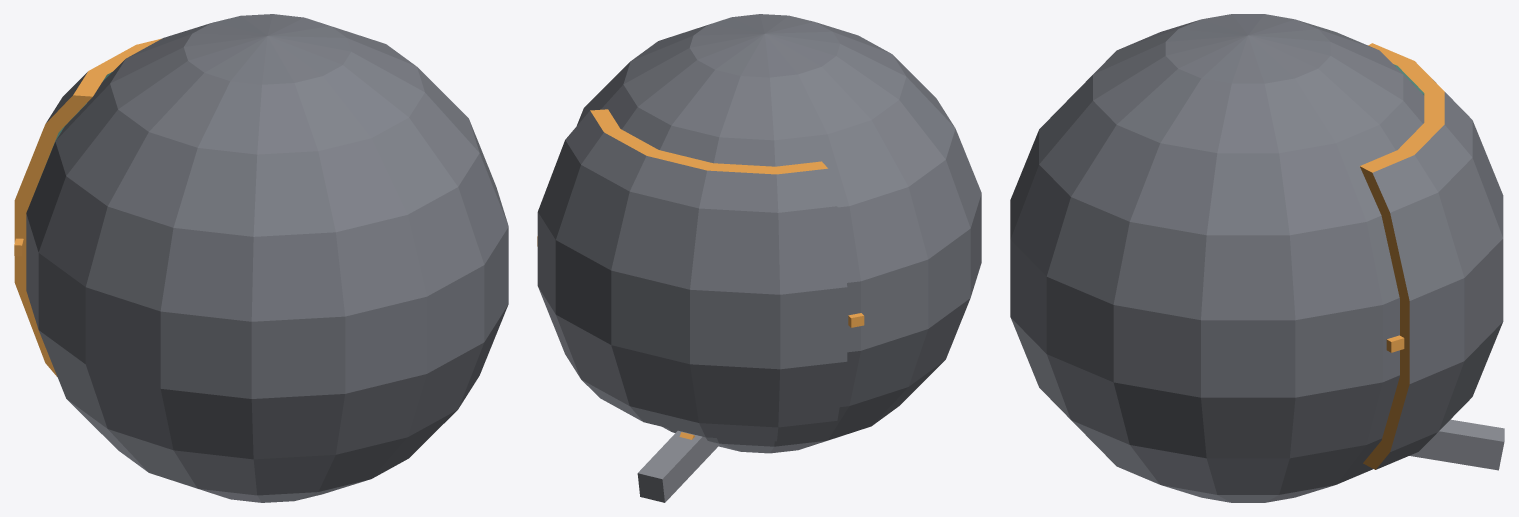
Rendered from allview_rear.glb.
3 renders of one model, left to right at view 1: azimuth 30°, elevation 25°; view 2: azimuth 150°, elevation 25°; view 3: azimuth 270°, elevation 25°, orthographic. The views are drawn at different scales.
Parts seen in each view (by area): view 1: shell, visor; view 2: visor, shell, seat_post; view 3: shell, visor, seat_post.
Part boxes in pixels (<box>): shell: <box>26,14,508,502</box>; visor: <box>14,38,161,376</box>; visor: <box>537,109,847,441</box>; shell: <box>577,14,981,453</box>; seat_post: <box>637,430,719,502</box>; shell: <box>1010,14,1424,502</box>; visor: <box>1360,43,1503,469</box>; seat_post: <box>1409,419,1504,470</box>.
Size of the model in its own units: 2.38 by 2.46 by 2.47.
